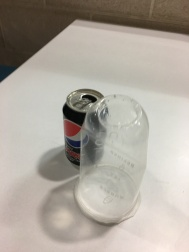can_black: (50, 85, 114, 171)
